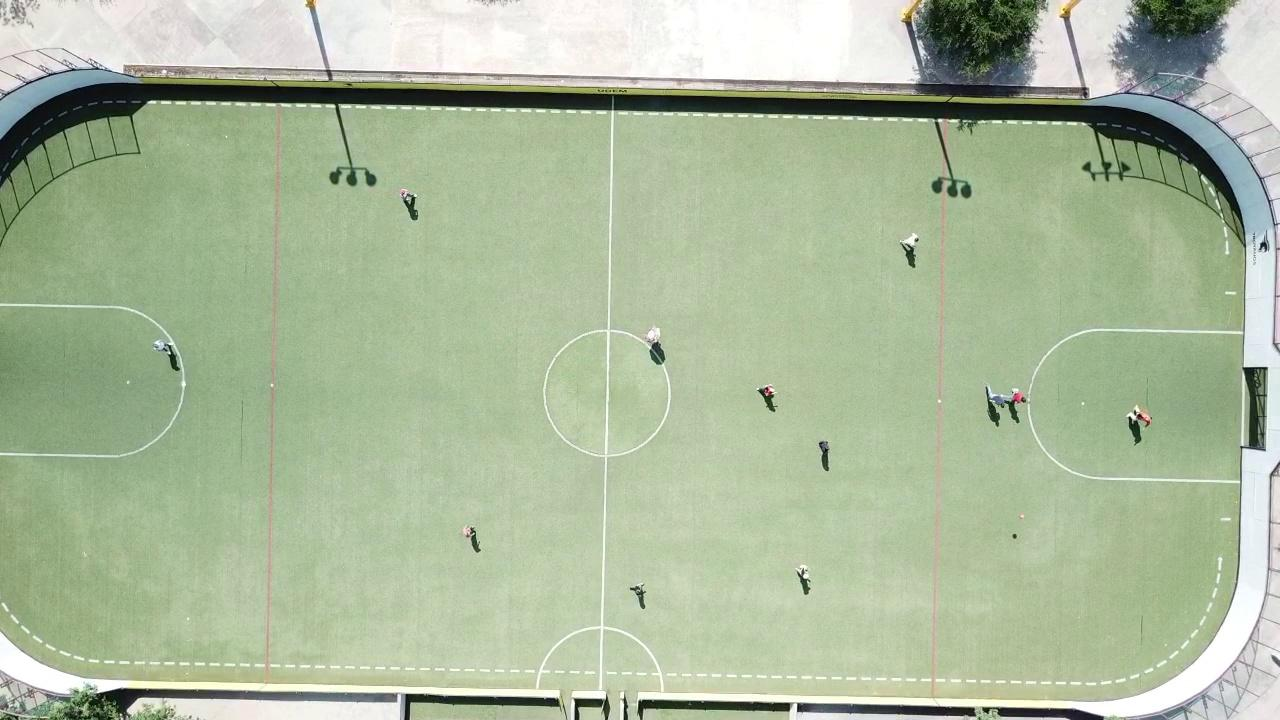ball: (1019, 514, 1024, 519)
player: (1129, 404, 1153, 427), (899, 232, 918, 252), (399, 188, 416, 208), (645, 326, 661, 346), (1010, 387, 1028, 404), (757, 384, 779, 397), (795, 565, 811, 582), (152, 340, 169, 354), (462, 525, 475, 539), (818, 440, 830, 455), (630, 583, 645, 593), (986, 384, 994, 402)
